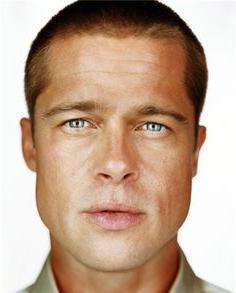Sober: (40, 41, 186, 259)
